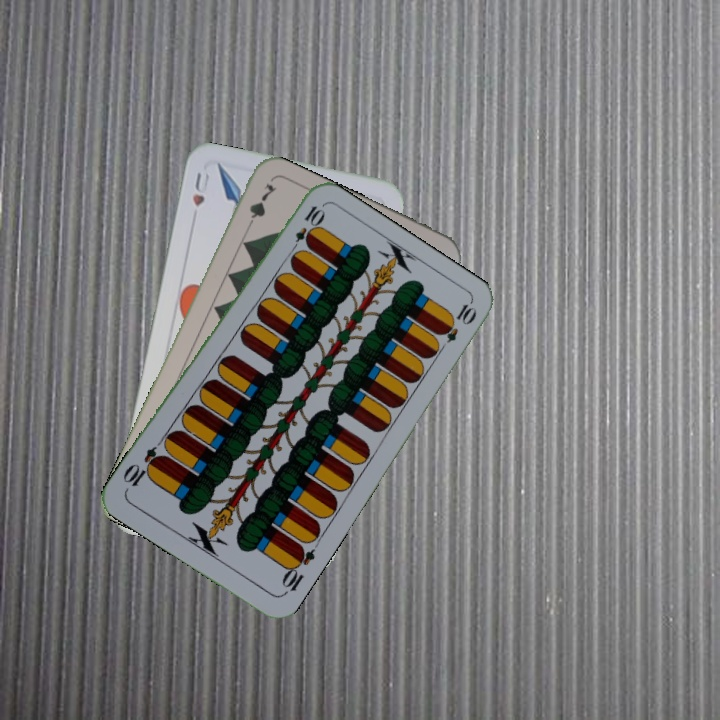E10: (277, 541, 318, 598), (286, 201, 326, 257)
G7: (242, 178, 280, 235)
HU: (188, 168, 212, 209)
